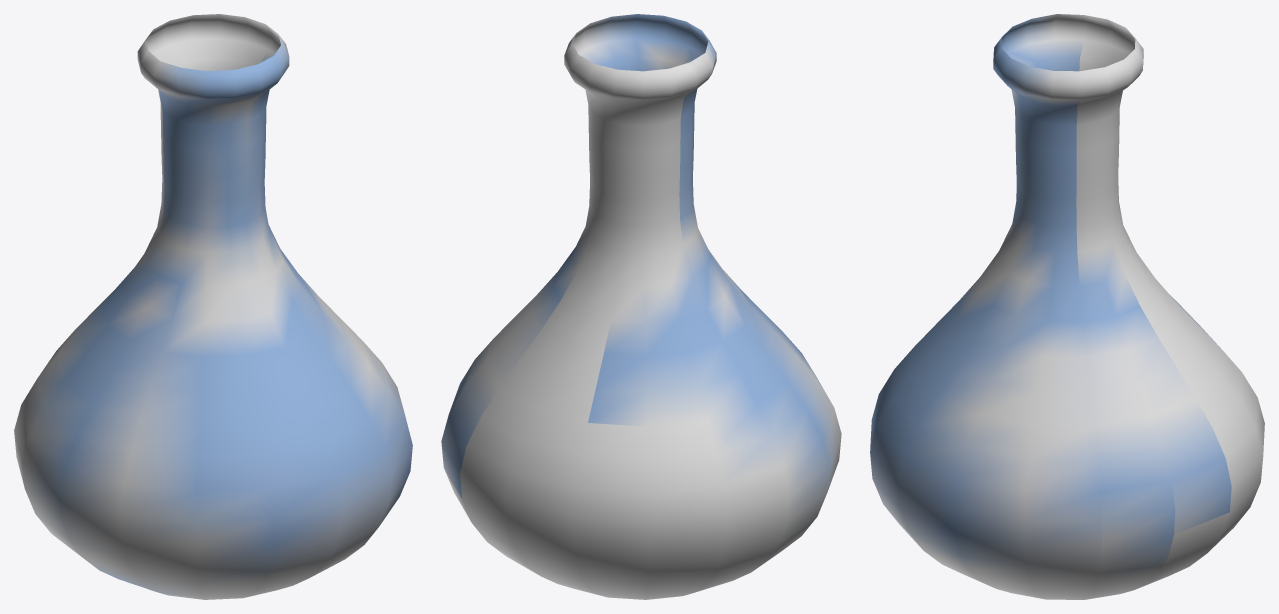
File: MS_PROP_Kettle02_Collider.fbx
The picture shows the model from 3 angles, left to right: view 1: azimuth 30°, elevation 25°; view 2: azimuth 150°, elevation 25°; view 3: azimuth 270°, elevation 25°; orthographic projection.
Parts seen in each view (by area): view 1: MS_PROP_Kettle02_Collider; view 2: MS_PROP_Kettle02_Collider; view 3: MS_PROP_Kettle02_Collider.
Part boxes in pixels (x1,y1,x2,y2): MS_PROP_Kettle02_Collider: (14,14,412,599); MS_PROP_Kettle02_Collider: (441,14,841,599); MS_PROP_Kettle02_Collider: (870,14,1264,599).
Size of the model in its own units: 0.1749 by 0.2574 by 0.1749.
